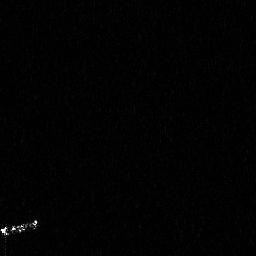ship: (1, 217, 38, 241)
